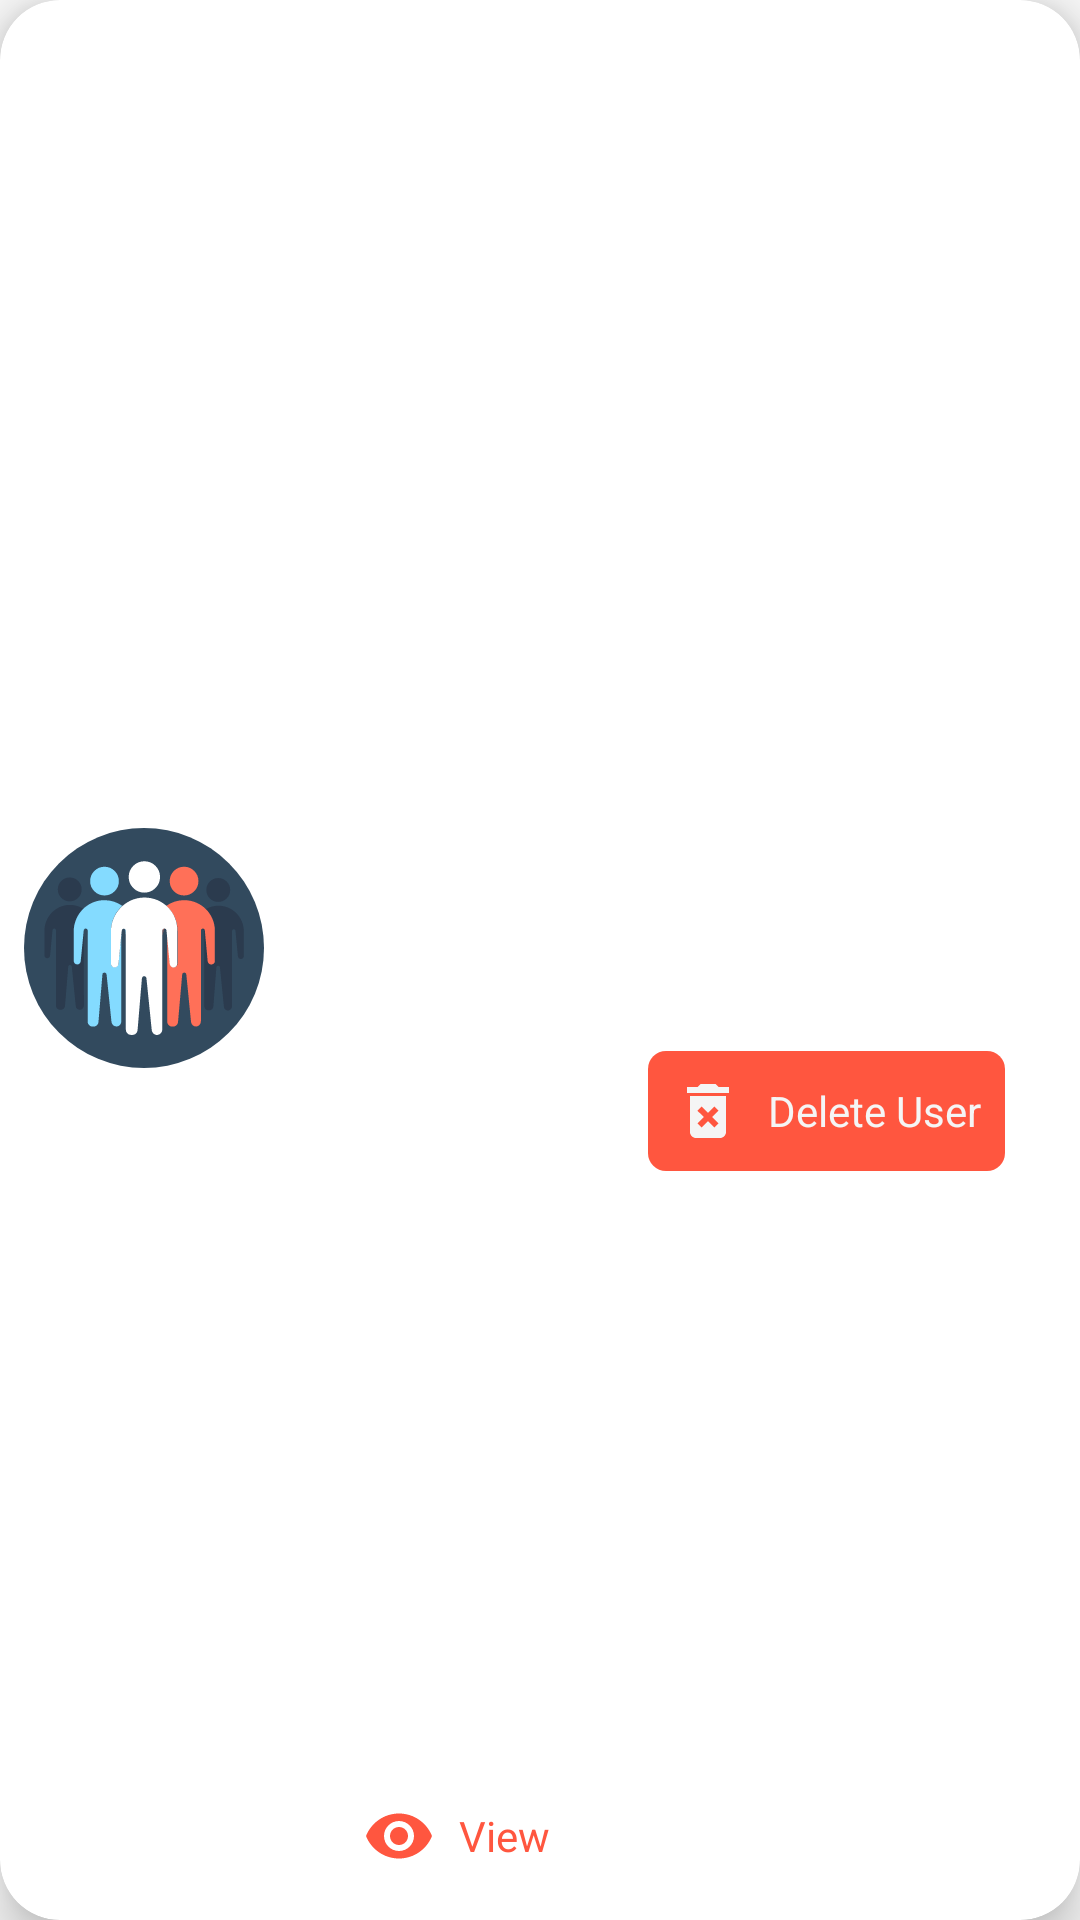

Icons on this 1080px×1920px Android screen, each with the point to tap as (x,y):
team: (144,948)
